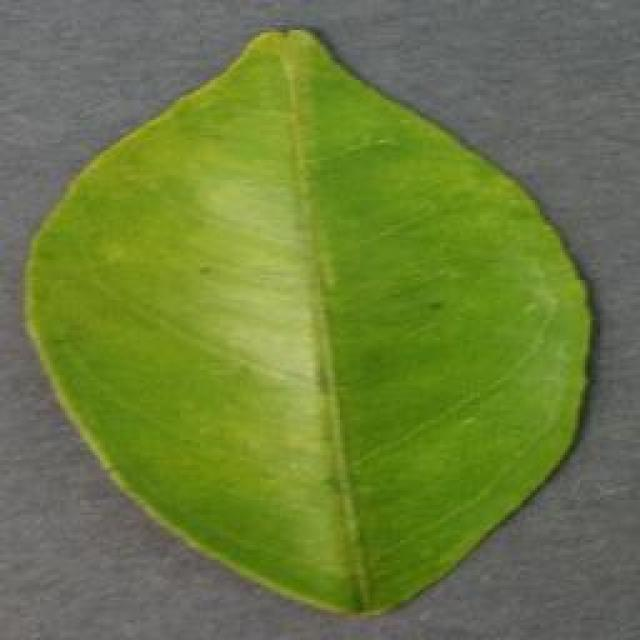Orange_Haunglongbing_Citrus_greening: (88, 120, 546, 568)
